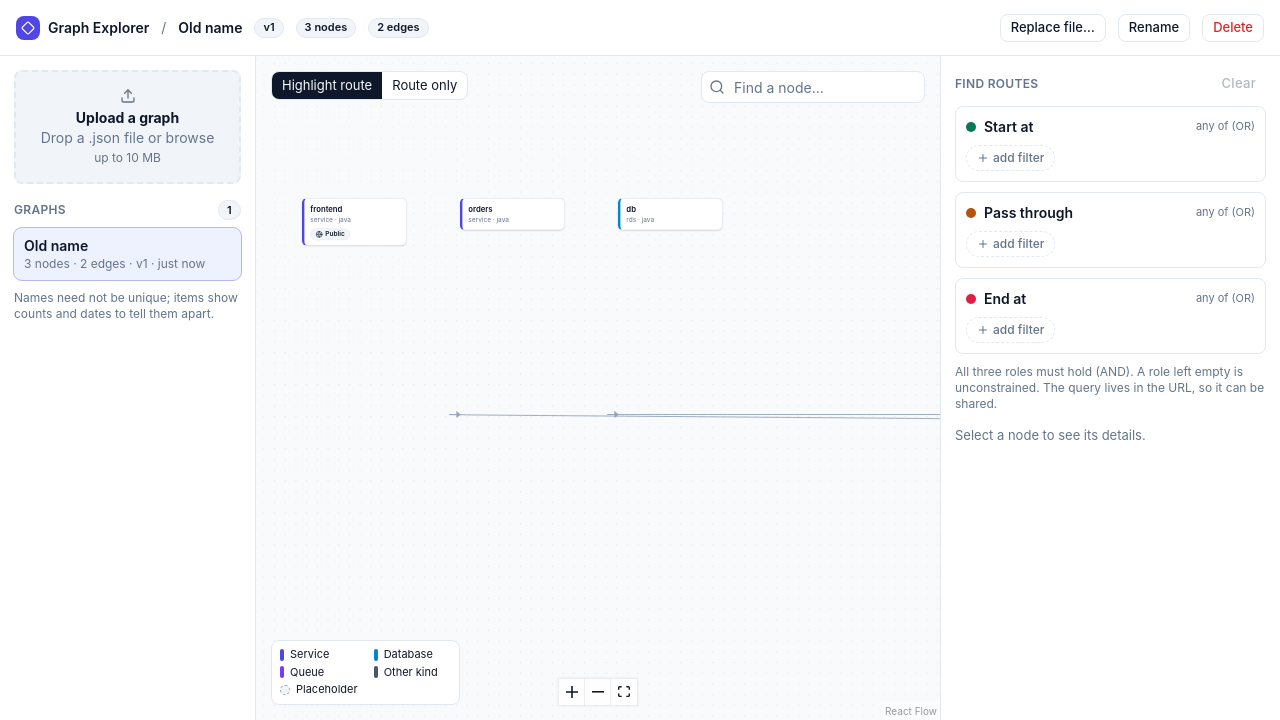
it: open, rename, replace and delete › renames a graph and updates the list and the top bar
This screenshot has width=1280, height=720.
Click the button "Rename" at (1154, 28), box [1118,14,1190,42]
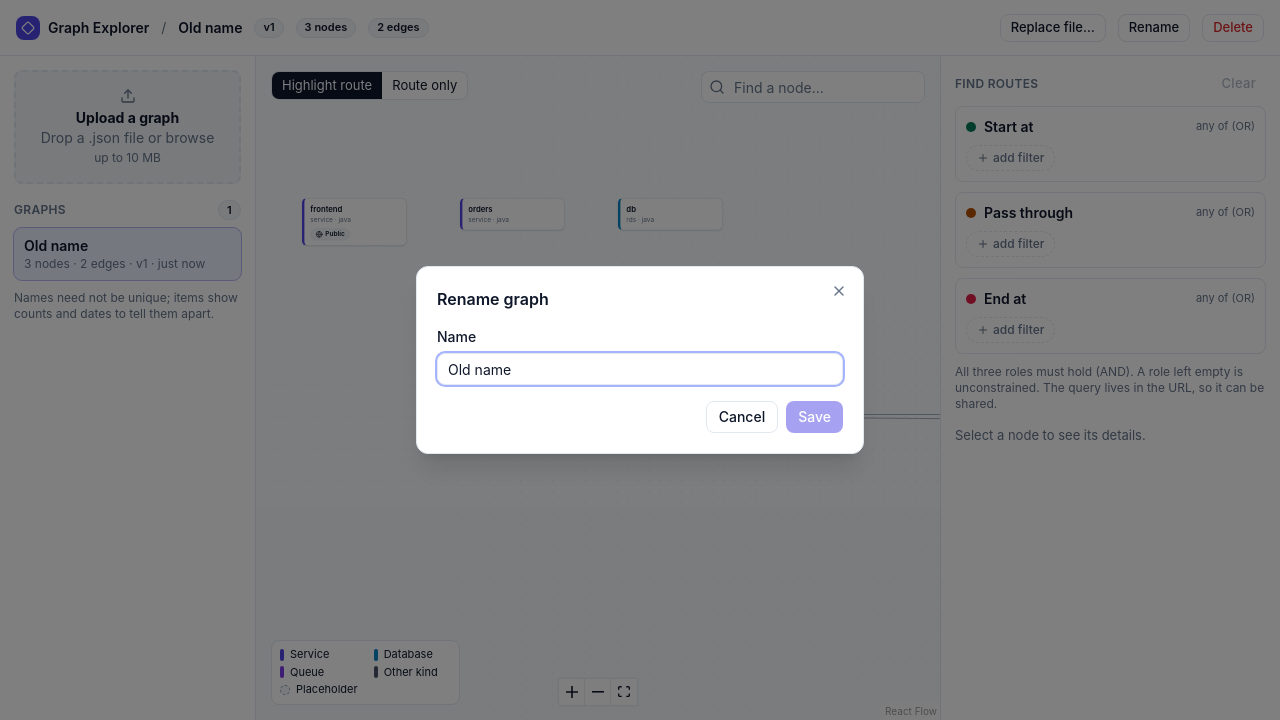
Replace the text in the field labelled "Name" with "New name" at (640, 369), box [437,353,843,385]
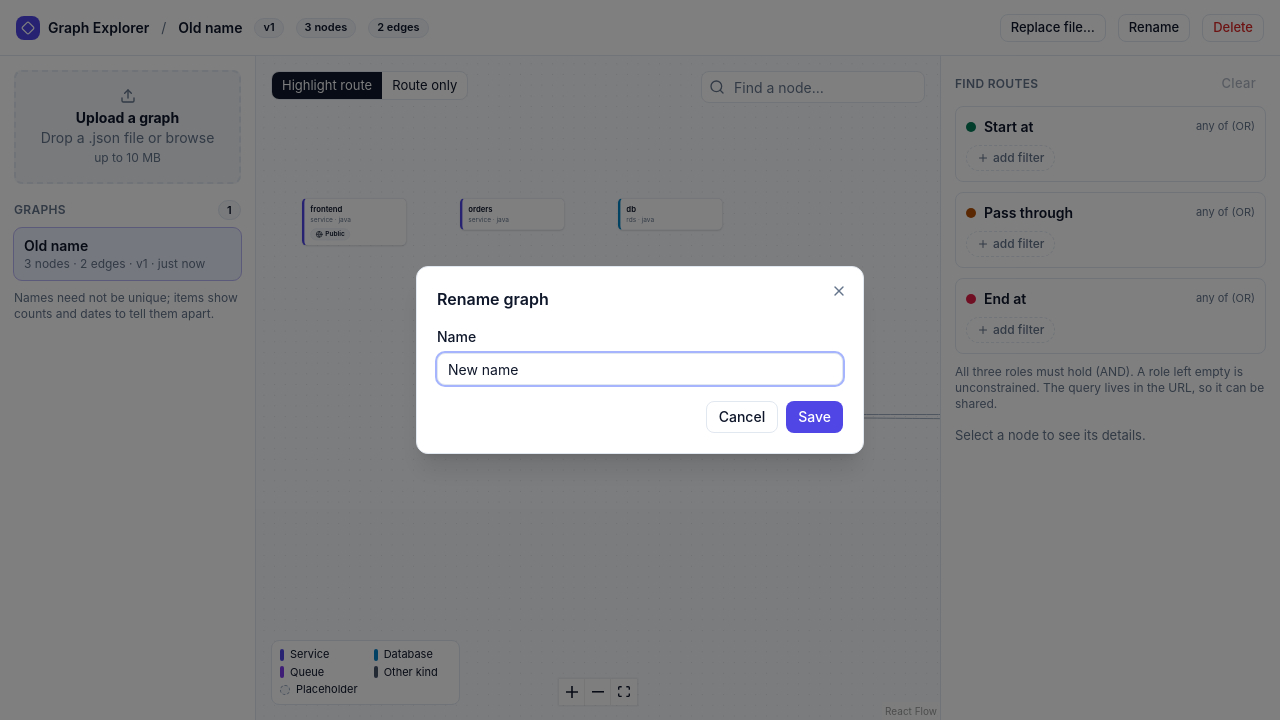
Click the button "Save" at (815, 417), box [786,401,843,433]
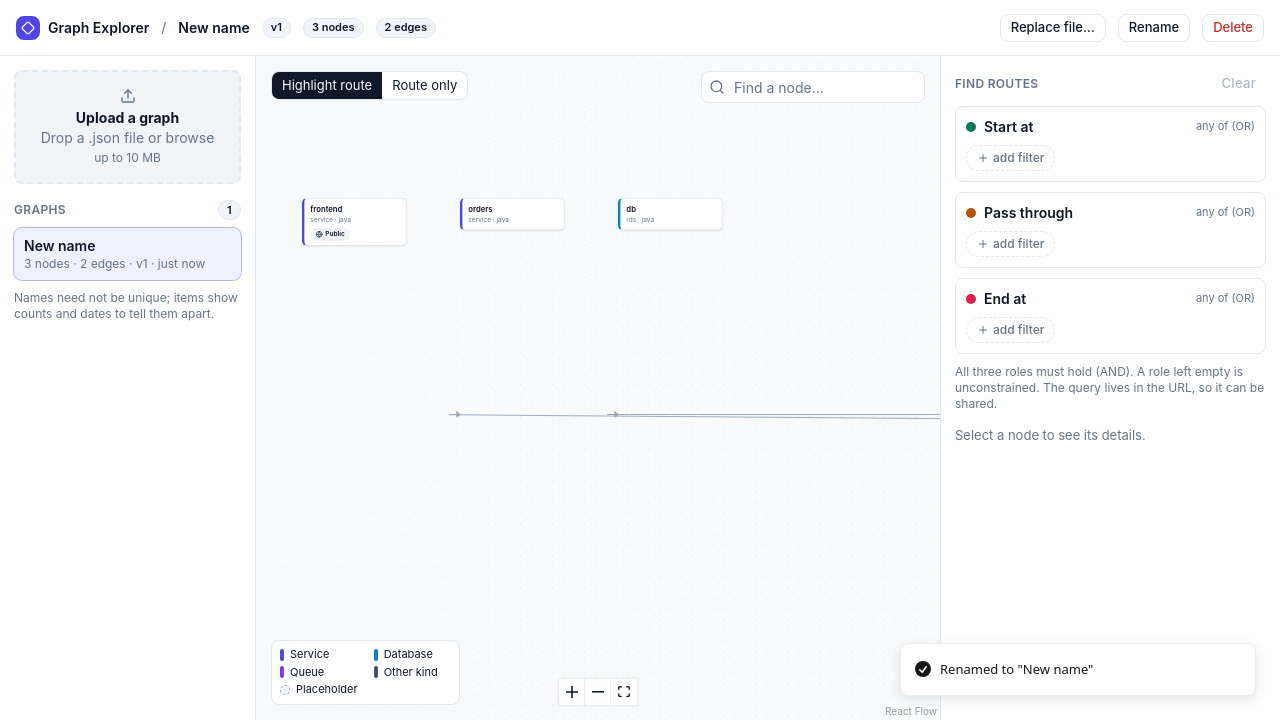
Result: the text "Renamed to \"New name\"" is shown at [940,660,1093,679]
Result: the text "New name" below "Graphs" is shown at [24,237,96,254]
Result: the text "New name" next to "Graph Explorer" is shown at [178,18,250,36]
